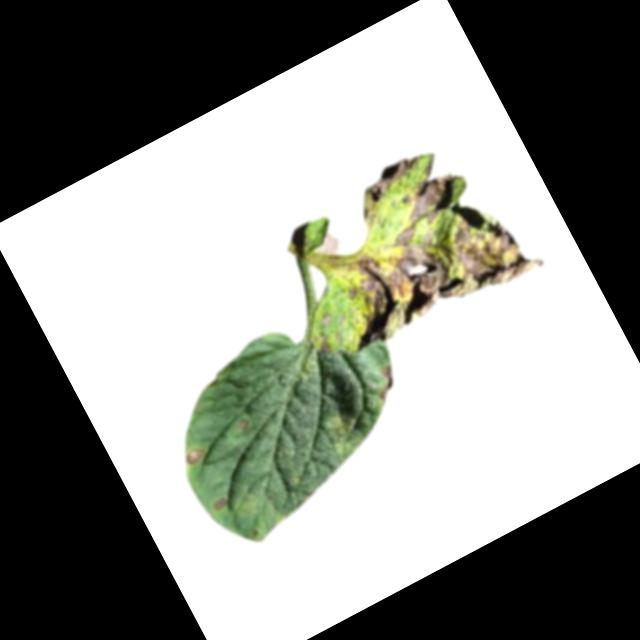Early_blight: (298, 140, 545, 361), (344, 146, 437, 227), (367, 365, 405, 407), (179, 444, 208, 470), (313, 332, 335, 358), (210, 496, 229, 513)
